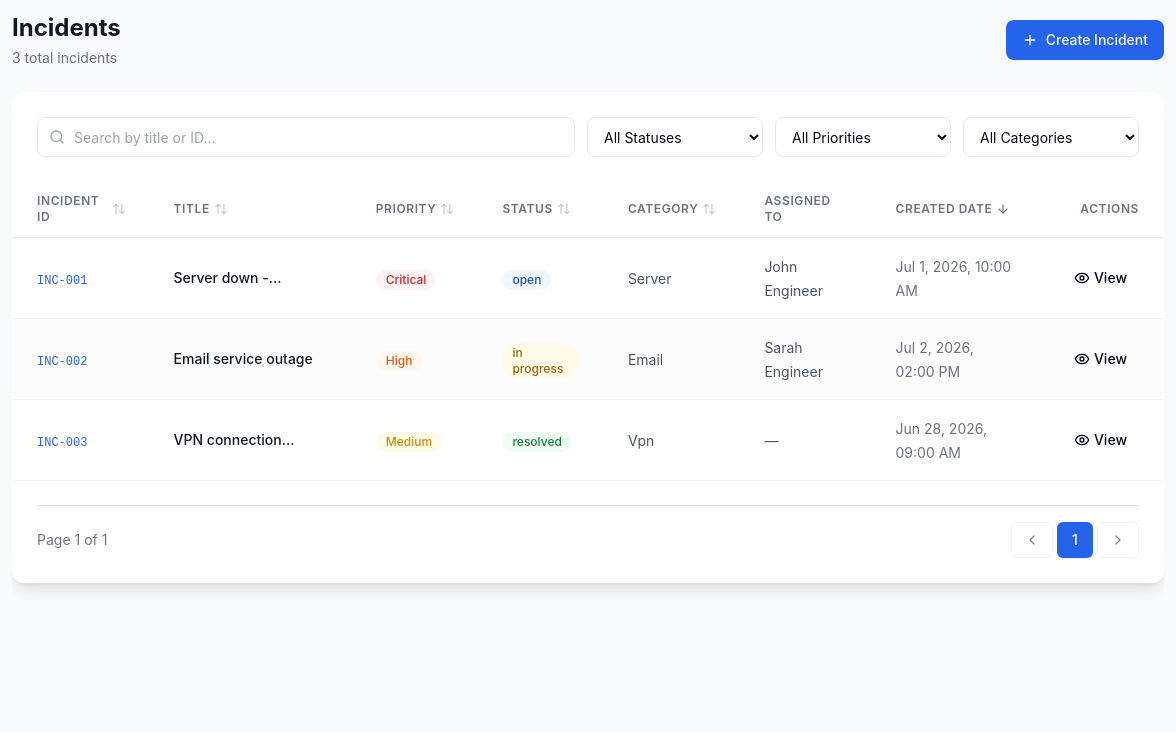
Test case: IncidentList › filters incidents by status
This screenshot has width=1176, height=732.
Expected: the text "3 total incidents" is shown, [12, 48, 121, 68]
Step 1. Select "Resolved" in the 1st dropdown showing "All Statuses" → (675, 137), box [587, 117, 763, 157]
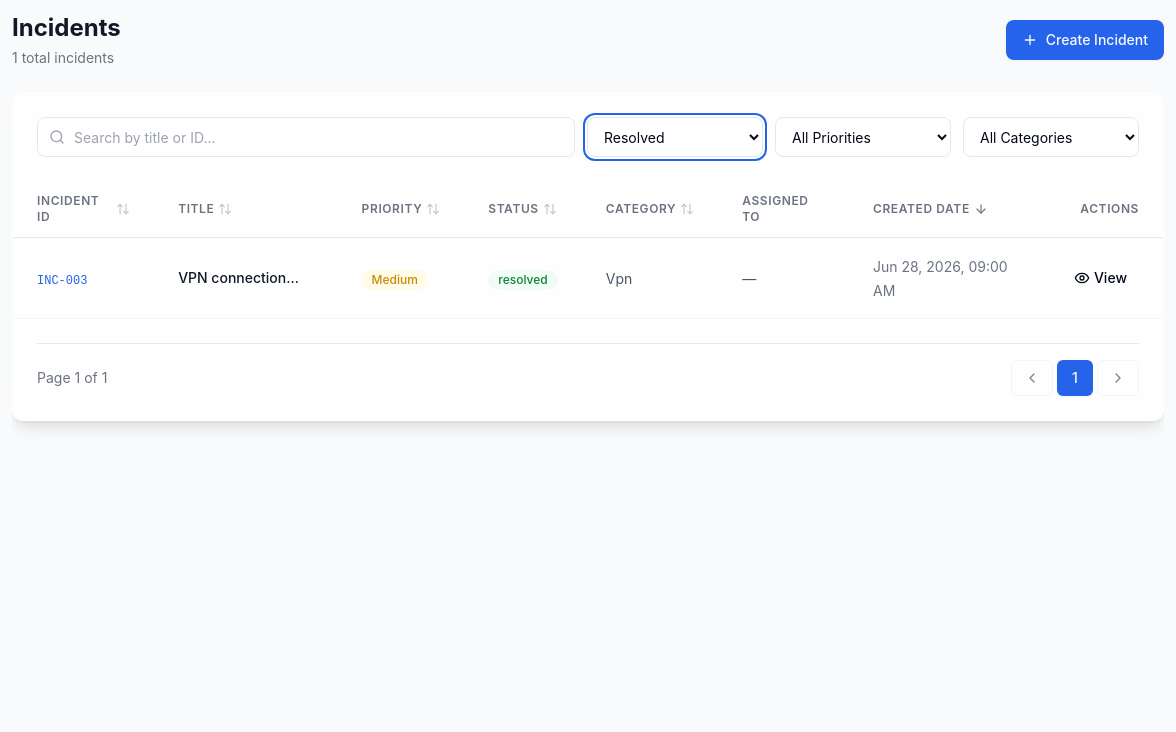
Now the text "1 total incidents" is shown, box [12, 48, 121, 68]
